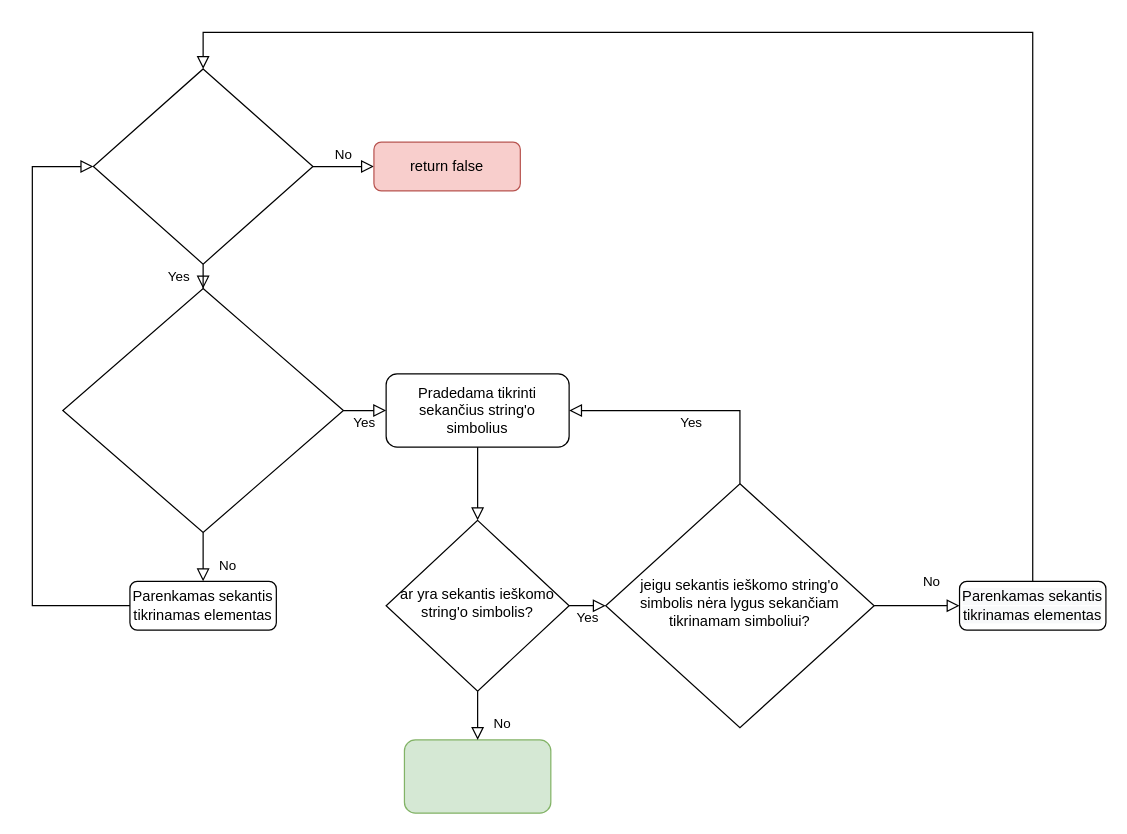
Image size: 1127x834. Some labels were removed from this diagram. Here are the shapes that lost their labels. From the top down, the centre of each, then its label:
At point (202, 166): "ar yra tikrinamų simbolių?".
At point (202, 410): "Ar tikrinamas simbolis lygus ieškomo string'o pirmam simboliui?".
At point (477, 776): "return true".
